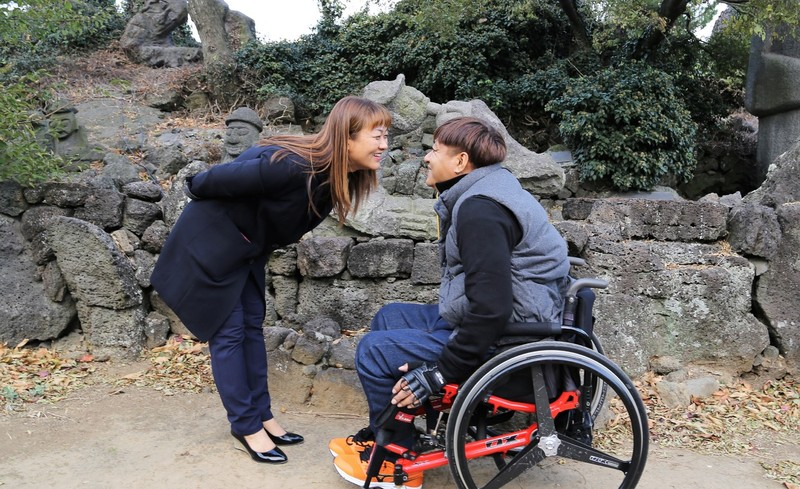wheelchair: (328, 116, 649, 489)
